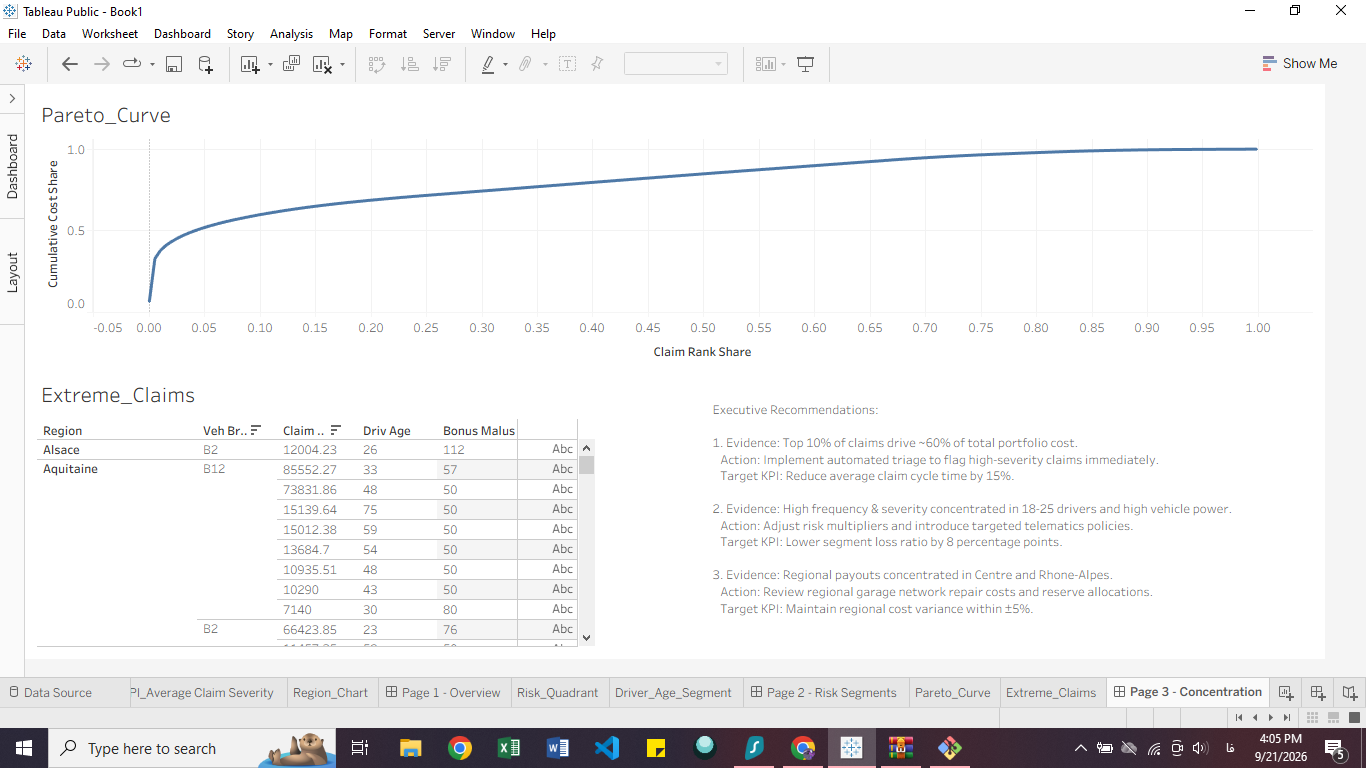

This screenshot's page, from the dashboard's own definition file:
{"tool":"tableau","page":{"name":"Page 3 - Concentration","canvas":[1300,575],"ordinal":2},"visuals":[{"type":"worksheet","title":"Pareto_Curve","mark":"Line","rows":["CumulativeCostShare"],"cols":["ClaimRankShare"],"box":[8,8,1284,279.5]},{"type":"worksheet","title":"Extreme_Claims","mark":"Text","rows":["Region","VehBrand","ClaimAmount","DrivAge","BonusMalus"],"box":[8,287.5,673,279.5]},{"type":"text","box":[681,287.5,611,279.5]}]}

Visuals, with their boxes on the page's 1300x575 design canvas (x1, y1, x2, y2). These are canvas units, not pixel positions in the 1366x768 screenshot, which may show the page scaled, cropped or inside an application window:
"Pareto_Curve" worksheet (Line marks): BBox(8, 8, 1292, 288)
"Extreme_Claims" worksheet (Text marks): BBox(8, 288, 681, 567)
text: BBox(681, 288, 1292, 567)
